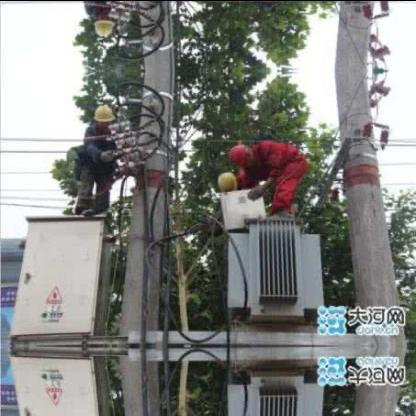Helmet: (225, 140, 251, 168), (93, 100, 115, 128), (93, 10, 115, 38), (216, 168, 242, 191)
